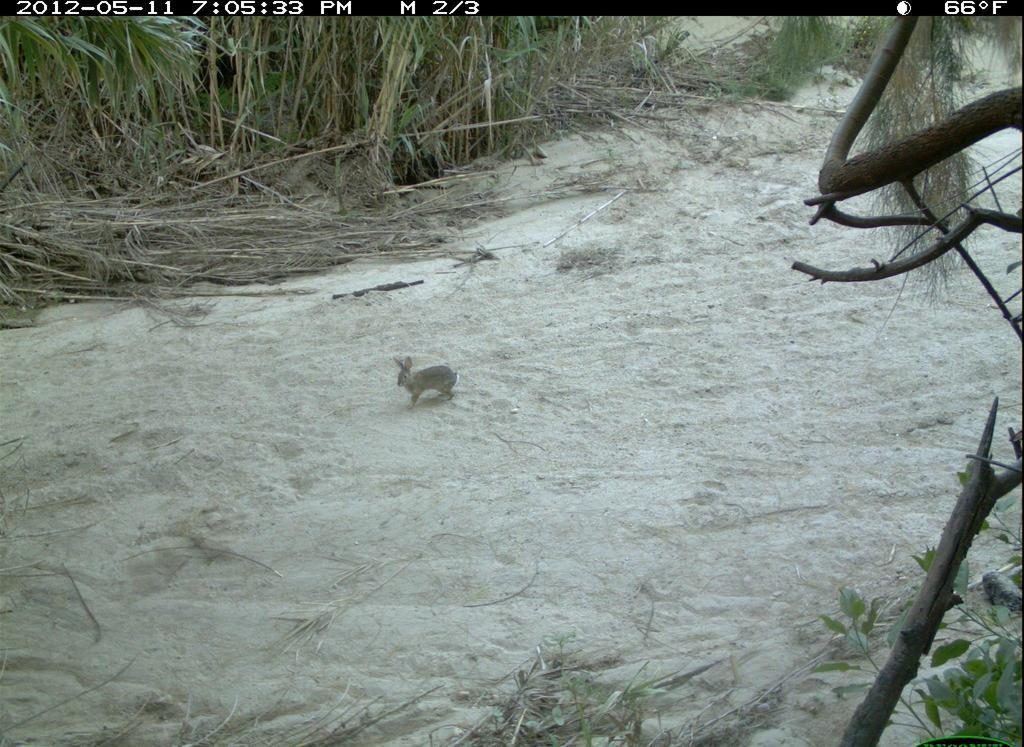rabbit: (391, 354, 464, 409)
